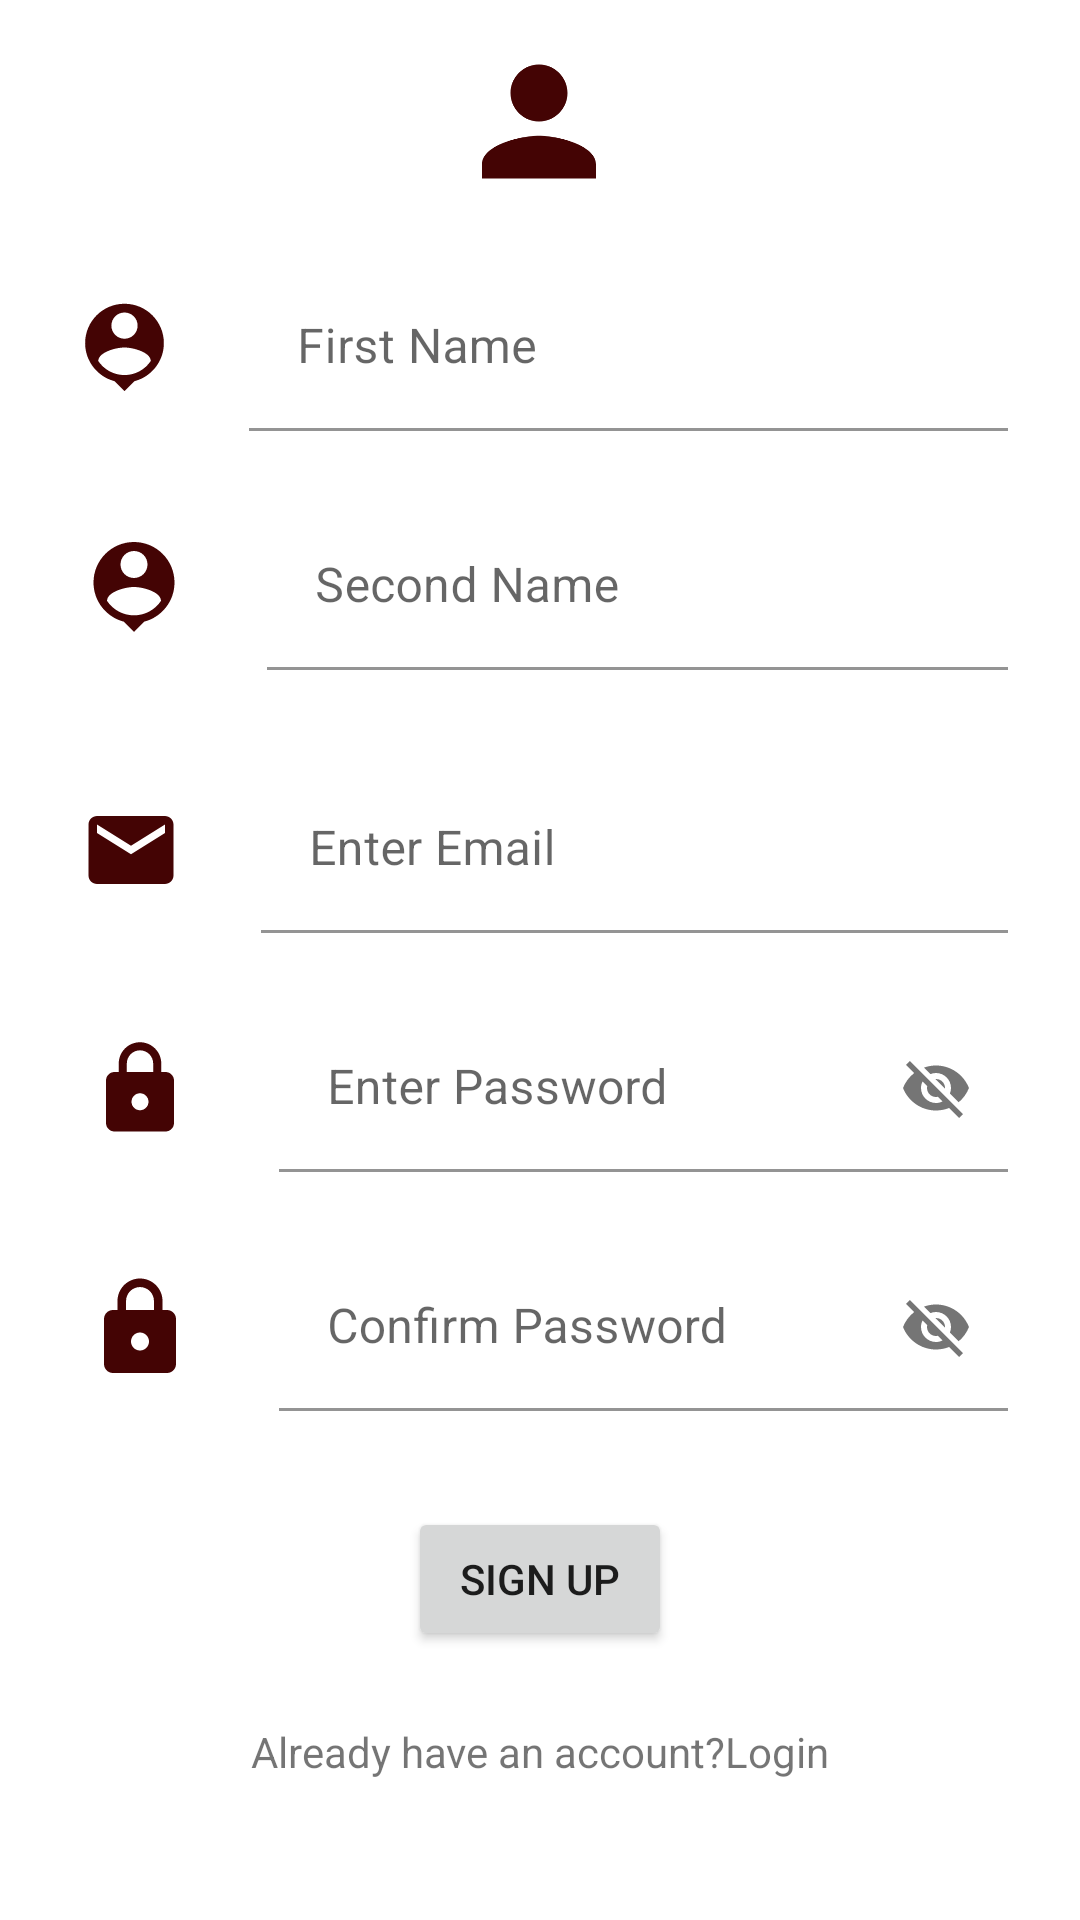

Screen size 1080px×1920px. Icon name, then its box in pixels as (x1, y1, x2, y2):
lock: (106, 1042, 174, 1132), (104, 1278, 176, 1373)
person: (482, 64, 596, 179)
person pin: (85, 303, 164, 391), (93, 542, 175, 632)
